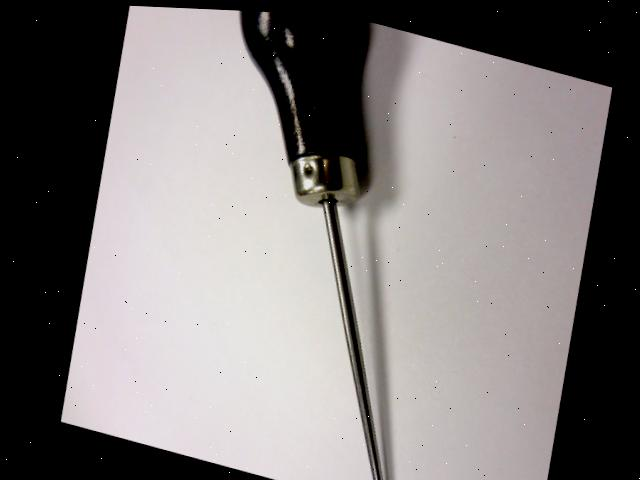ice pick: (134, 5, 512, 480)
